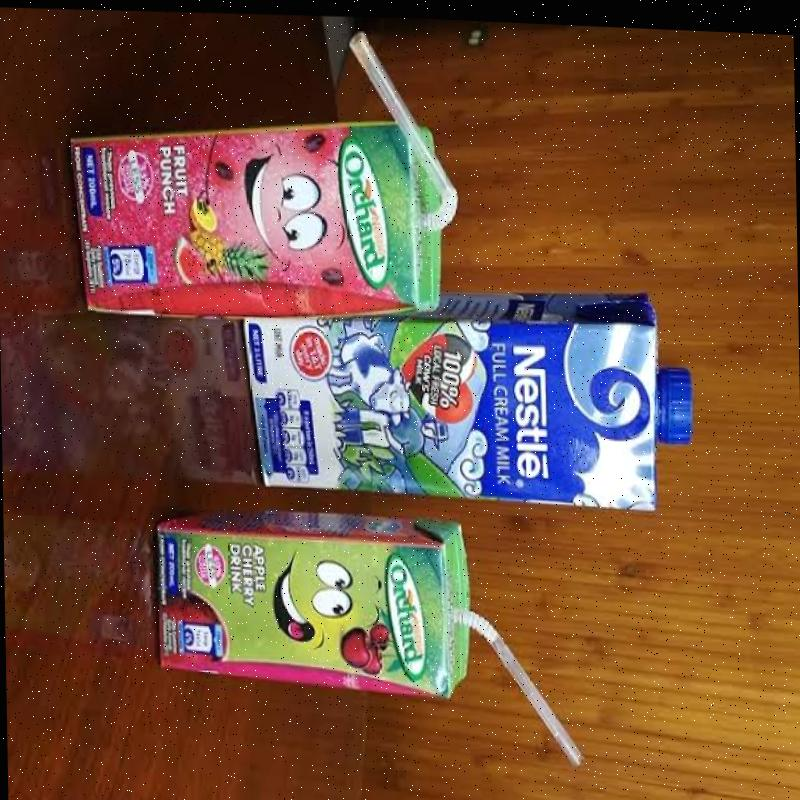plastic straw: (348, 34, 457, 231), (460, 610, 582, 769)
uht carton: (239, 290, 692, 512), (66, 119, 440, 317), (150, 508, 467, 700)
